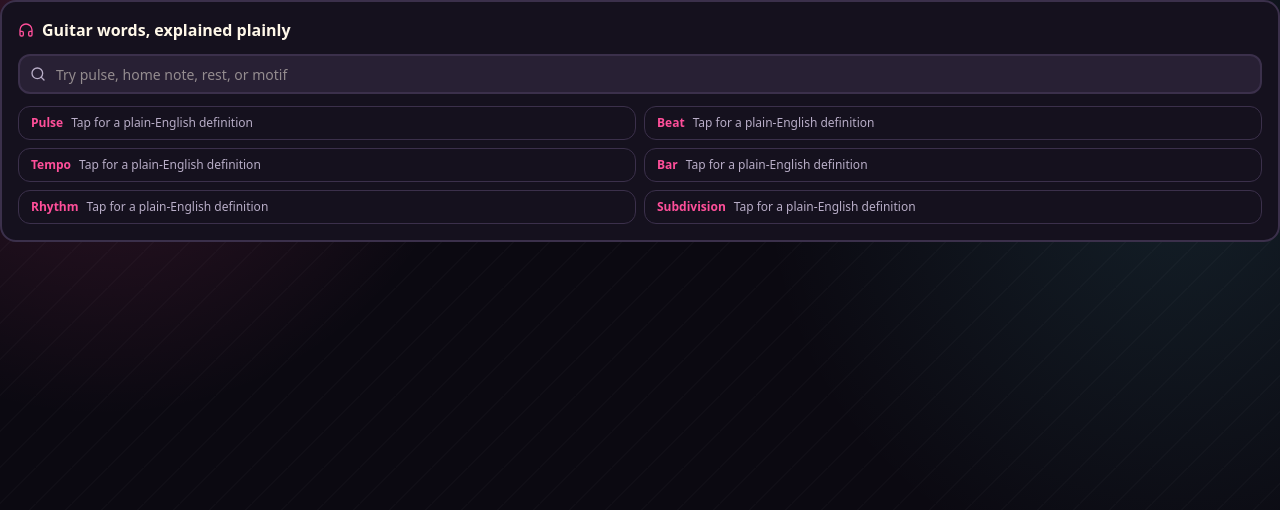
it: beginner-first Guitar Studio › searches technical and plain-English glossary language
Type "home note" into the field named "Search guitar glossary".
click(640, 74); type("home note")  # box [18,54,1262,94]
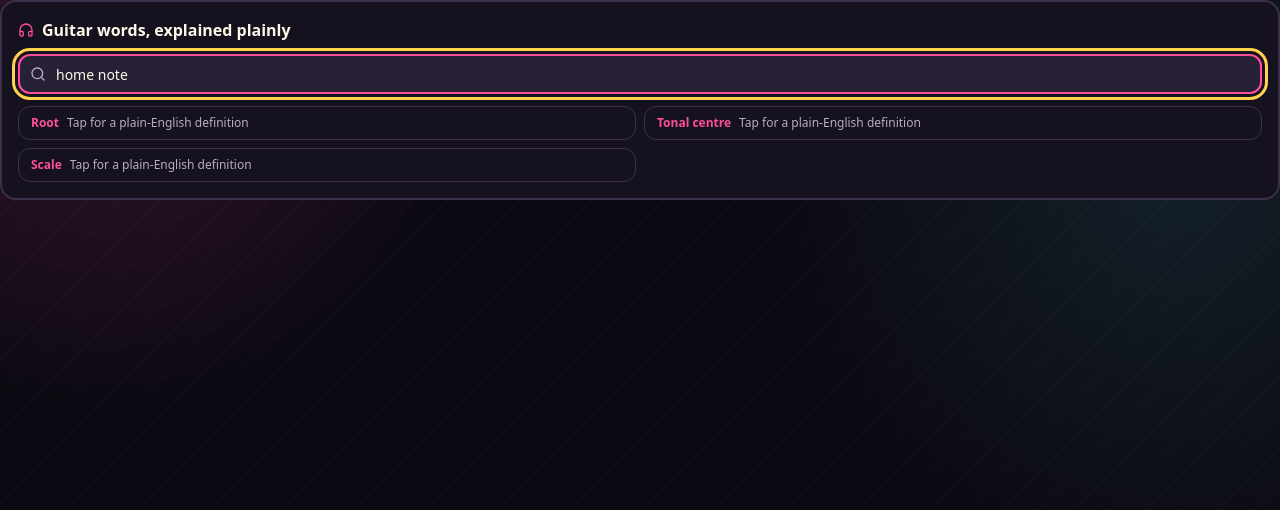
Now the heading "Tonal centre" is shown, box [657,114,921,131]
Replace the text in the field named "Search guitar glossary" with "small repeatable musical idea" at (640, 74), box [18,54,1262,94]
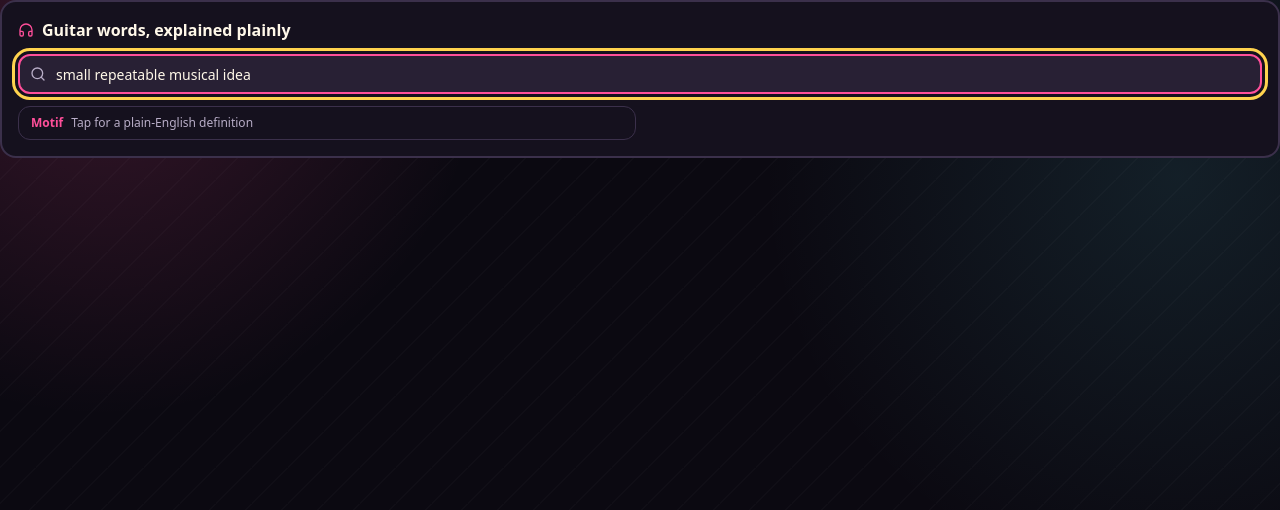
Now the heading "Motif" is shown, box [31,114,253,131]
